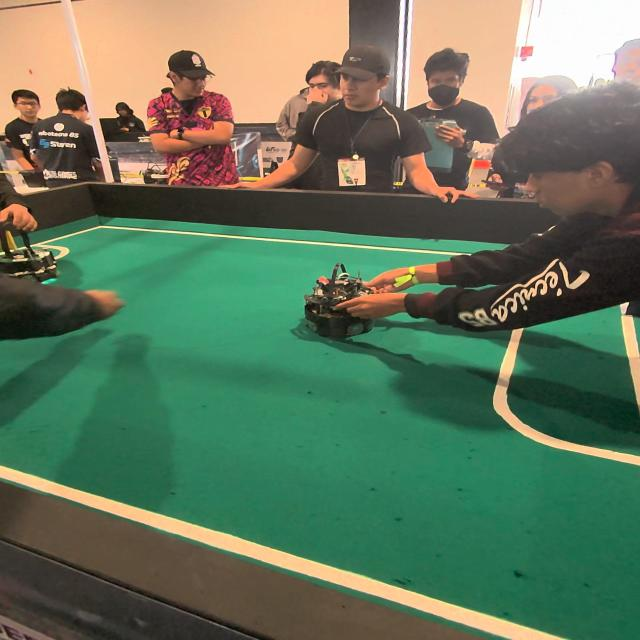Robot: (303, 262, 377, 342), (0, 210, 64, 298)
